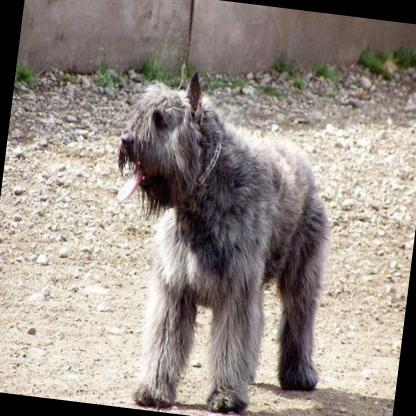Bouvier_des_Flandres: (81, 57, 356, 416)
